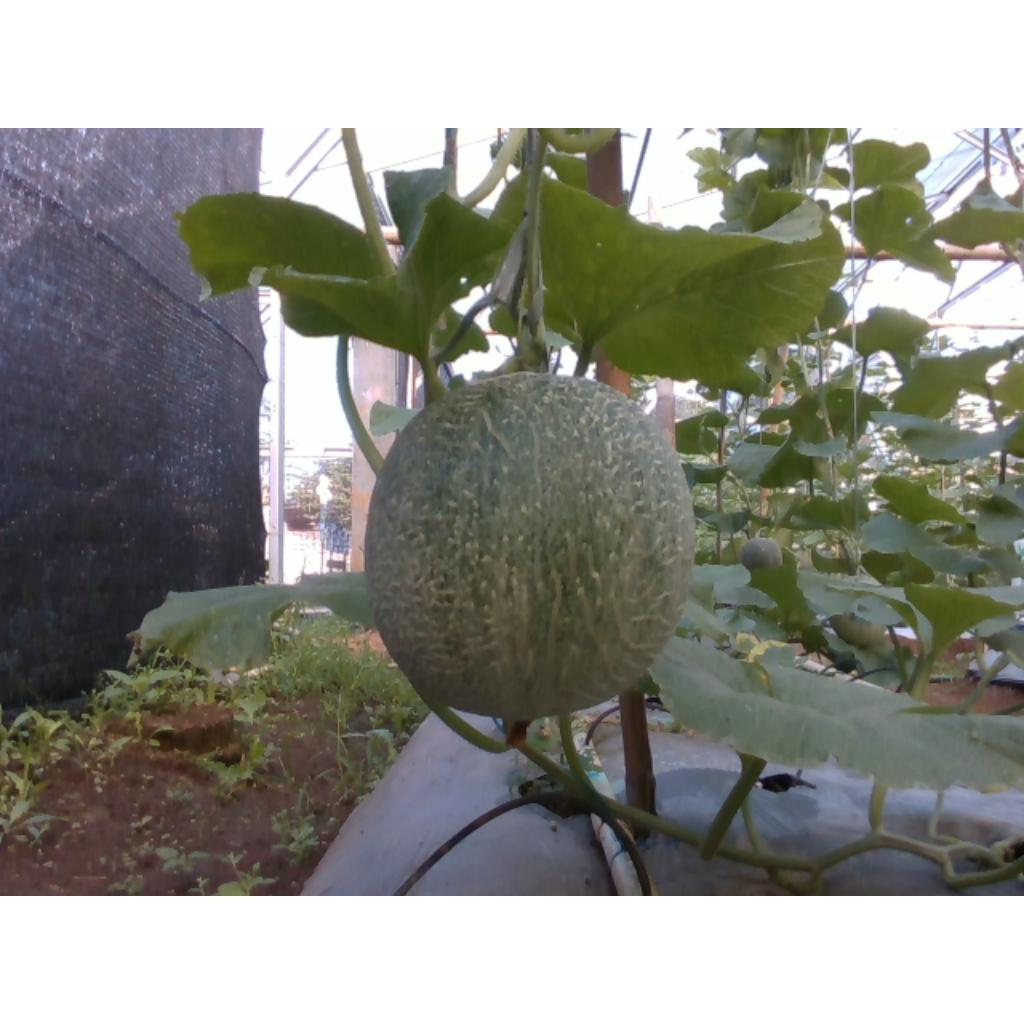melon: (366, 376, 696, 722)
